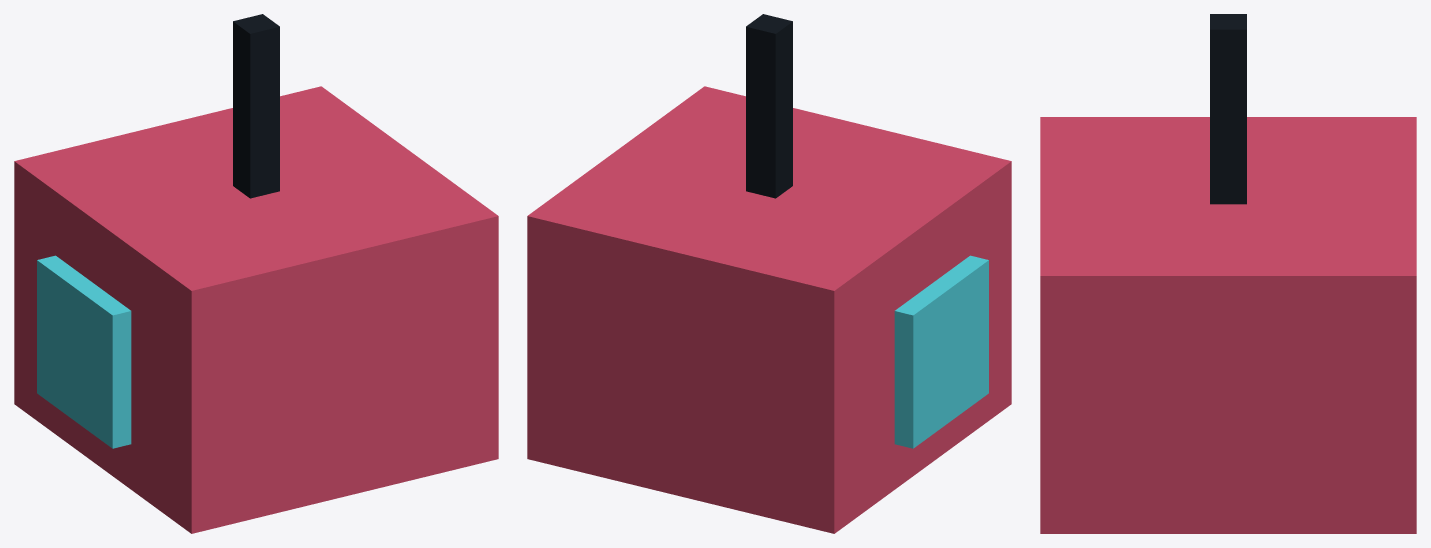
File: explosive.glb
The picture shows the model from 3 angles, left to right: view 1: azimuth 30°, elevation 25°; view 2: azimuth 150°, elevation 25°; view 3: azimuth 270°, elevation 25°; orthographic projection. The views are drawn at different scales.
Visible parts, largest first — view 1: explosive-weapon; view 2: explosive-weapon; view 3: explosive-weapon.
Boxes of the visible parts, x1,y1,x2,y2 form: explosive-weapon: (14,14,498,533); explosive-weapon: (527,14,1011,533); explosive-weapon: (1040,14,1416,533).
Size of the model in its own units: 0.895 by 1.04 by 0.82.
